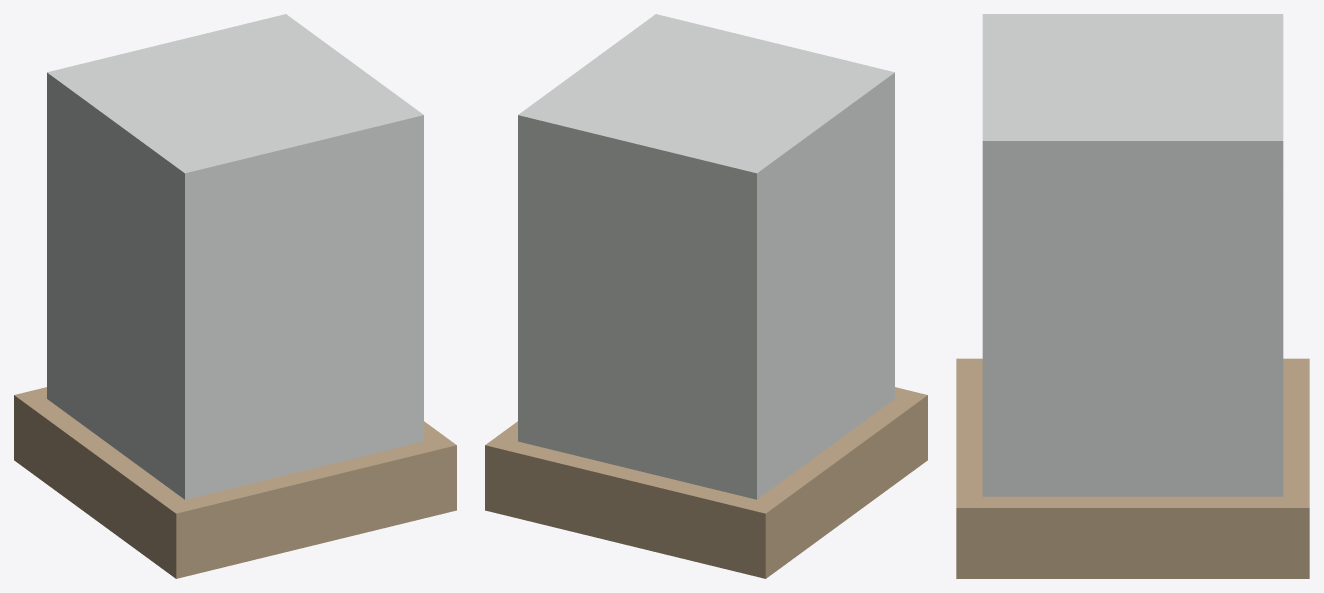
File: bh_villa_water_tank_01_lod0.glb
The picture shows the model from 3 angles, left to right: view 1: azimuth 30°, elevation 25°; view 2: azimuth 150°, elevation 25°; view 3: azimuth 270°, elevation 25°; orthographic projection. The views are drawn at different scales.
Visible parts, largest first — view 1: bh_villa_water_tank_01_tank, bh_villa_water_tank_01_base; view 2: bh_villa_water_tank_01_tank, bh_villa_water_tank_01_base; view 3: bh_villa_water_tank_01_tank, bh_villa_water_tank_01_base.
Boxes of the visible parts, x1,y1,x2,y2 form: bh_villa_water_tank_01_tank: [47, 14, 423, 499]; bh_villa_water_tank_01_base: [14, 387, 456, 578]; bh_villa_water_tank_01_tank: [518, 14, 894, 499]; bh_villa_water_tank_01_base: [485, 387, 927, 578]; bh_villa_water_tank_01_tank: [982, 14, 1283, 496]; bh_villa_water_tank_01_base: [956, 358, 1309, 578].
Bounding box in the file's own units: 1.35 × 1.8 × 1.35.
